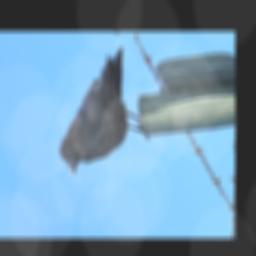Crow: (34, 45, 158, 177)
